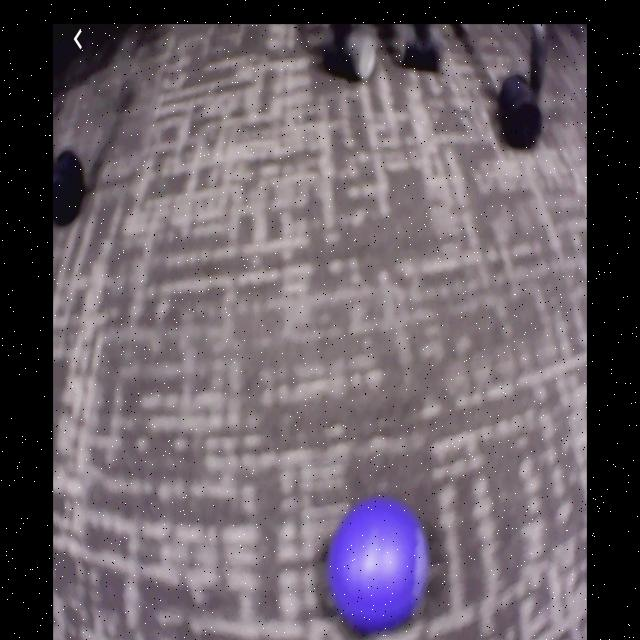ball: (330, 498, 431, 629)
